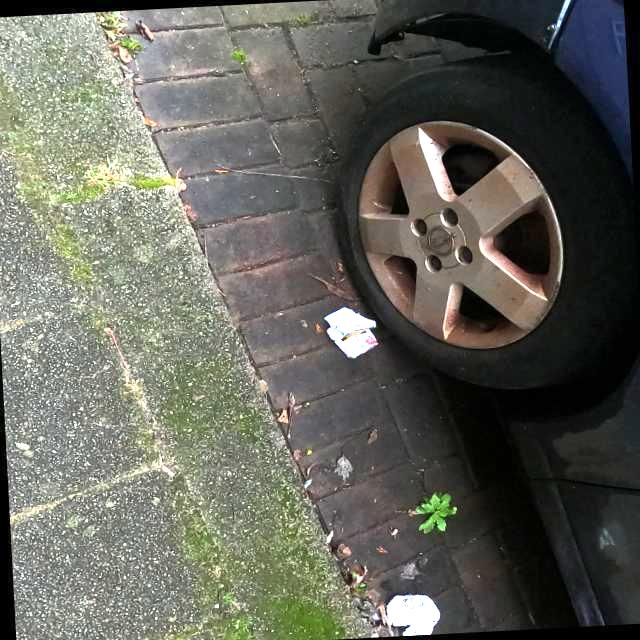Paper: (322, 306, 381, 360)
Plastic: (385, 592, 441, 636)
